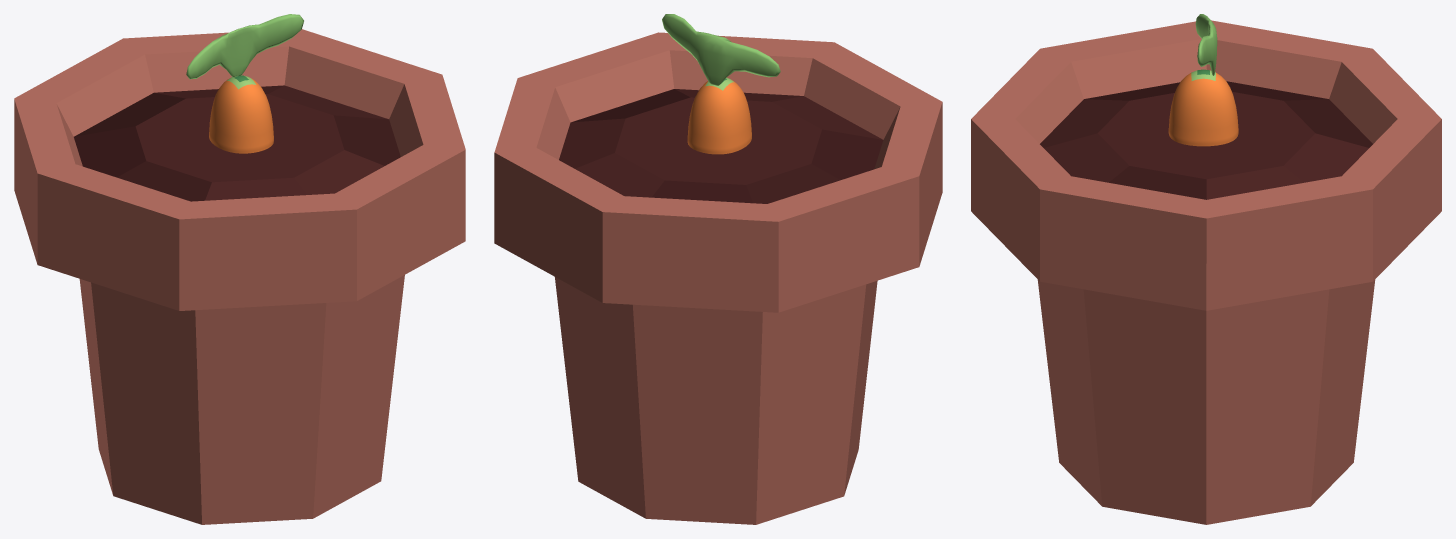
Rendered from wortel pot 3.fbx.
3 views of the same model, side by side, from view 1: azimuth 30°, elevation 25°; view 2: azimuth 150°, elevation 25°; view 3: azimuth 270°, elevation 25° (orthographic).
Visible parts, largest first — view 1: pot 1.003, wortel 1, daun; view 2: pot 1.003, wortel 1, daun; view 3: pot 1.003, wortel 1, daun.
Boxes of the visible parts, <box> form: pot 1.003: <box>14,29,465,524</box>; wortel 1: <box>209,75,273,153</box>; daun: <box>186,14,303,79</box>; pot 1.003: <box>494,32,942,524</box>; wortel 1: <box>687,77,751,154</box>; daun: <box>662,14,780,85</box>; pot 1.003: <box>971,20,1441,524</box>; wortel 1: <box>1168,69,1238,146</box>; daun: <box>1195,14,1217,75</box>.
Size of the model in its own units: 49.53 by 51.64 by 49.53.
